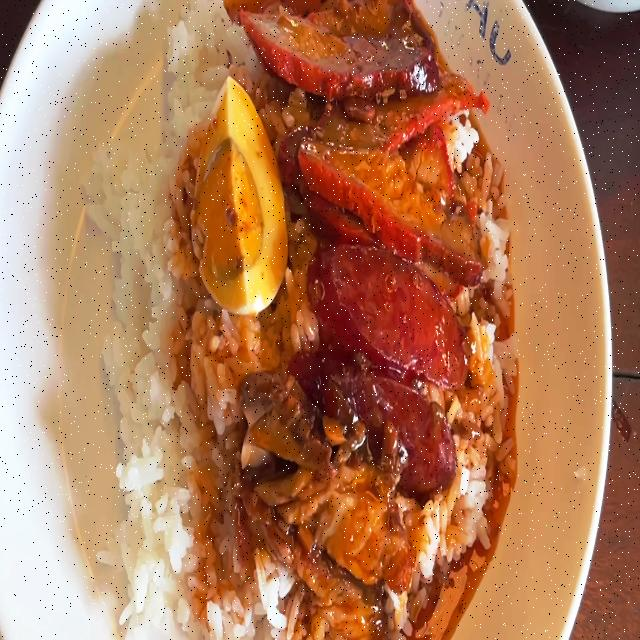boiled_egg: (203, 104, 276, 296)
chainese_sausage: (314, 247, 458, 464)
crispy_pork: (256, 460, 405, 628)
red_pork: (294, 48, 467, 226)
red_pork_and_crispy_pork: (115, 4, 510, 640)
rice: (114, 151, 192, 633), (190, 335, 238, 640), (169, 0, 224, 104)
